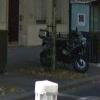Motorcycle: (32, 22, 90, 74)
